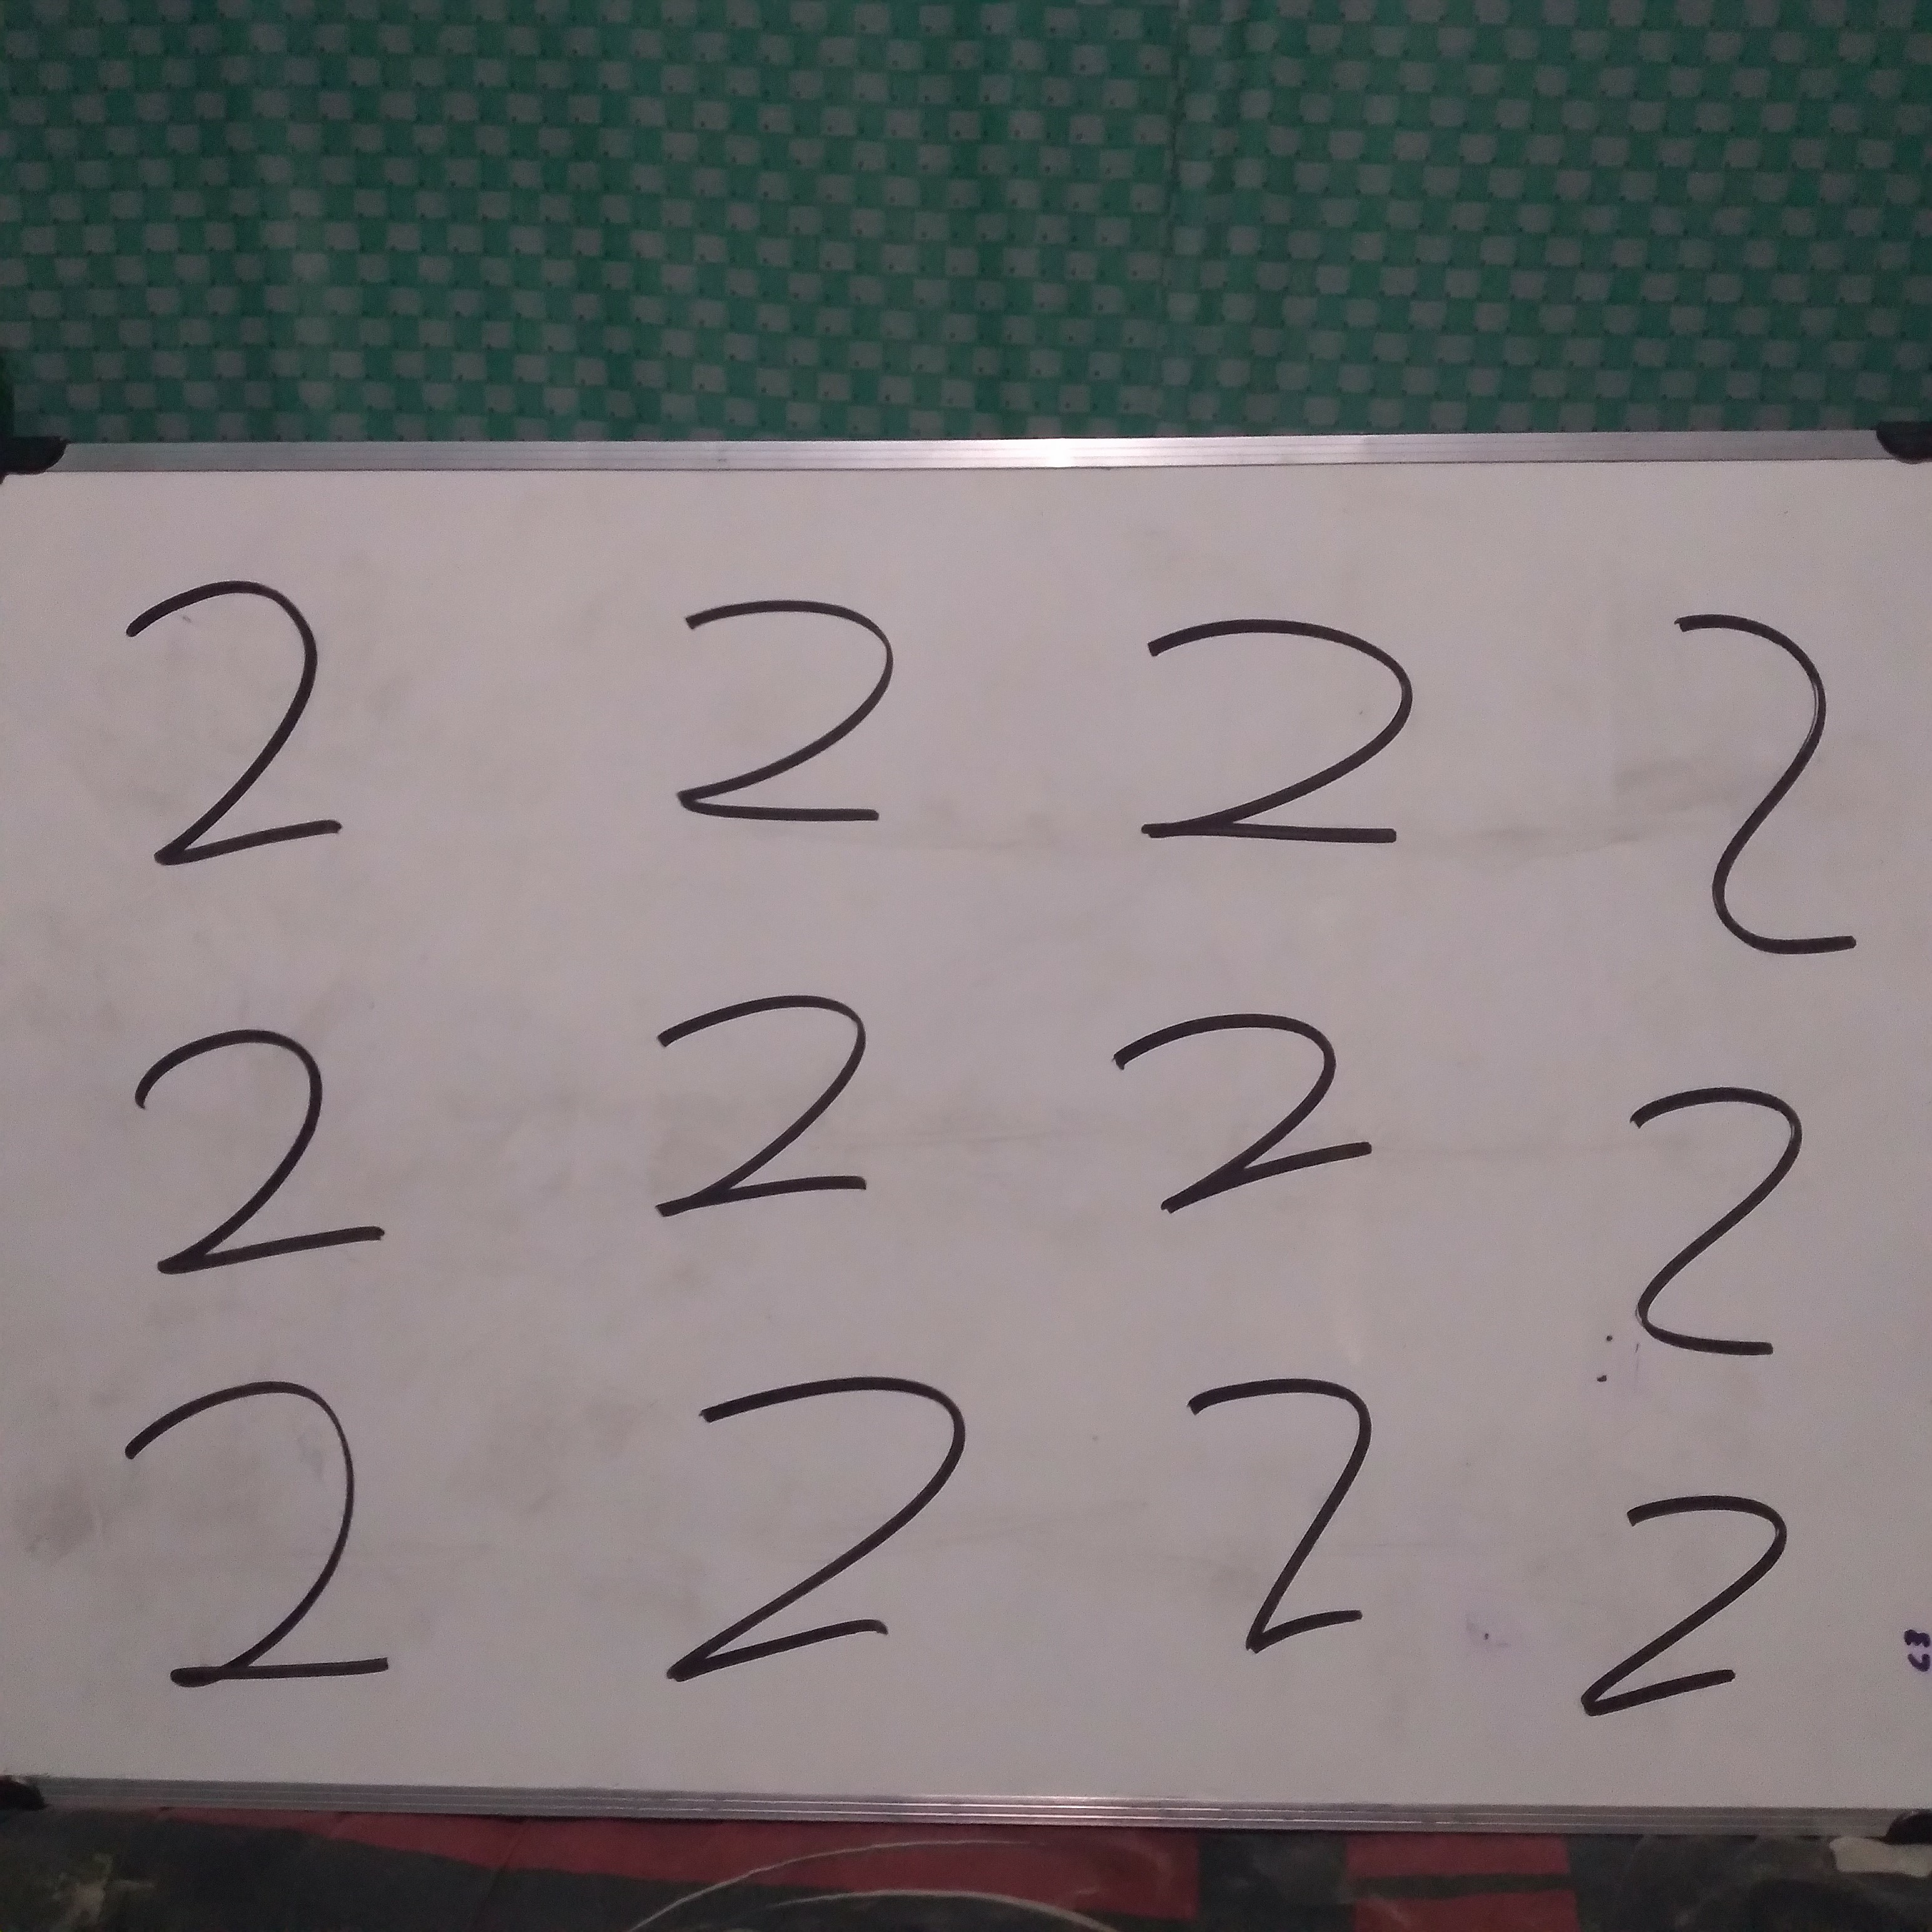num2: (1565, 588, 1901, 988), (648, 1318, 985, 1718), (100, 1333, 437, 1733), (1121, 568, 1429, 897), (1547, 1056, 1854, 1385), (1136, 1353, 1443, 1682), (1074, 948, 1381, 1276), (1530, 1448, 1838, 1777), (99, 547, 374, 891), (648, 539, 922, 882), (122, 980, 397, 1324), (624, 923, 899, 1266)
